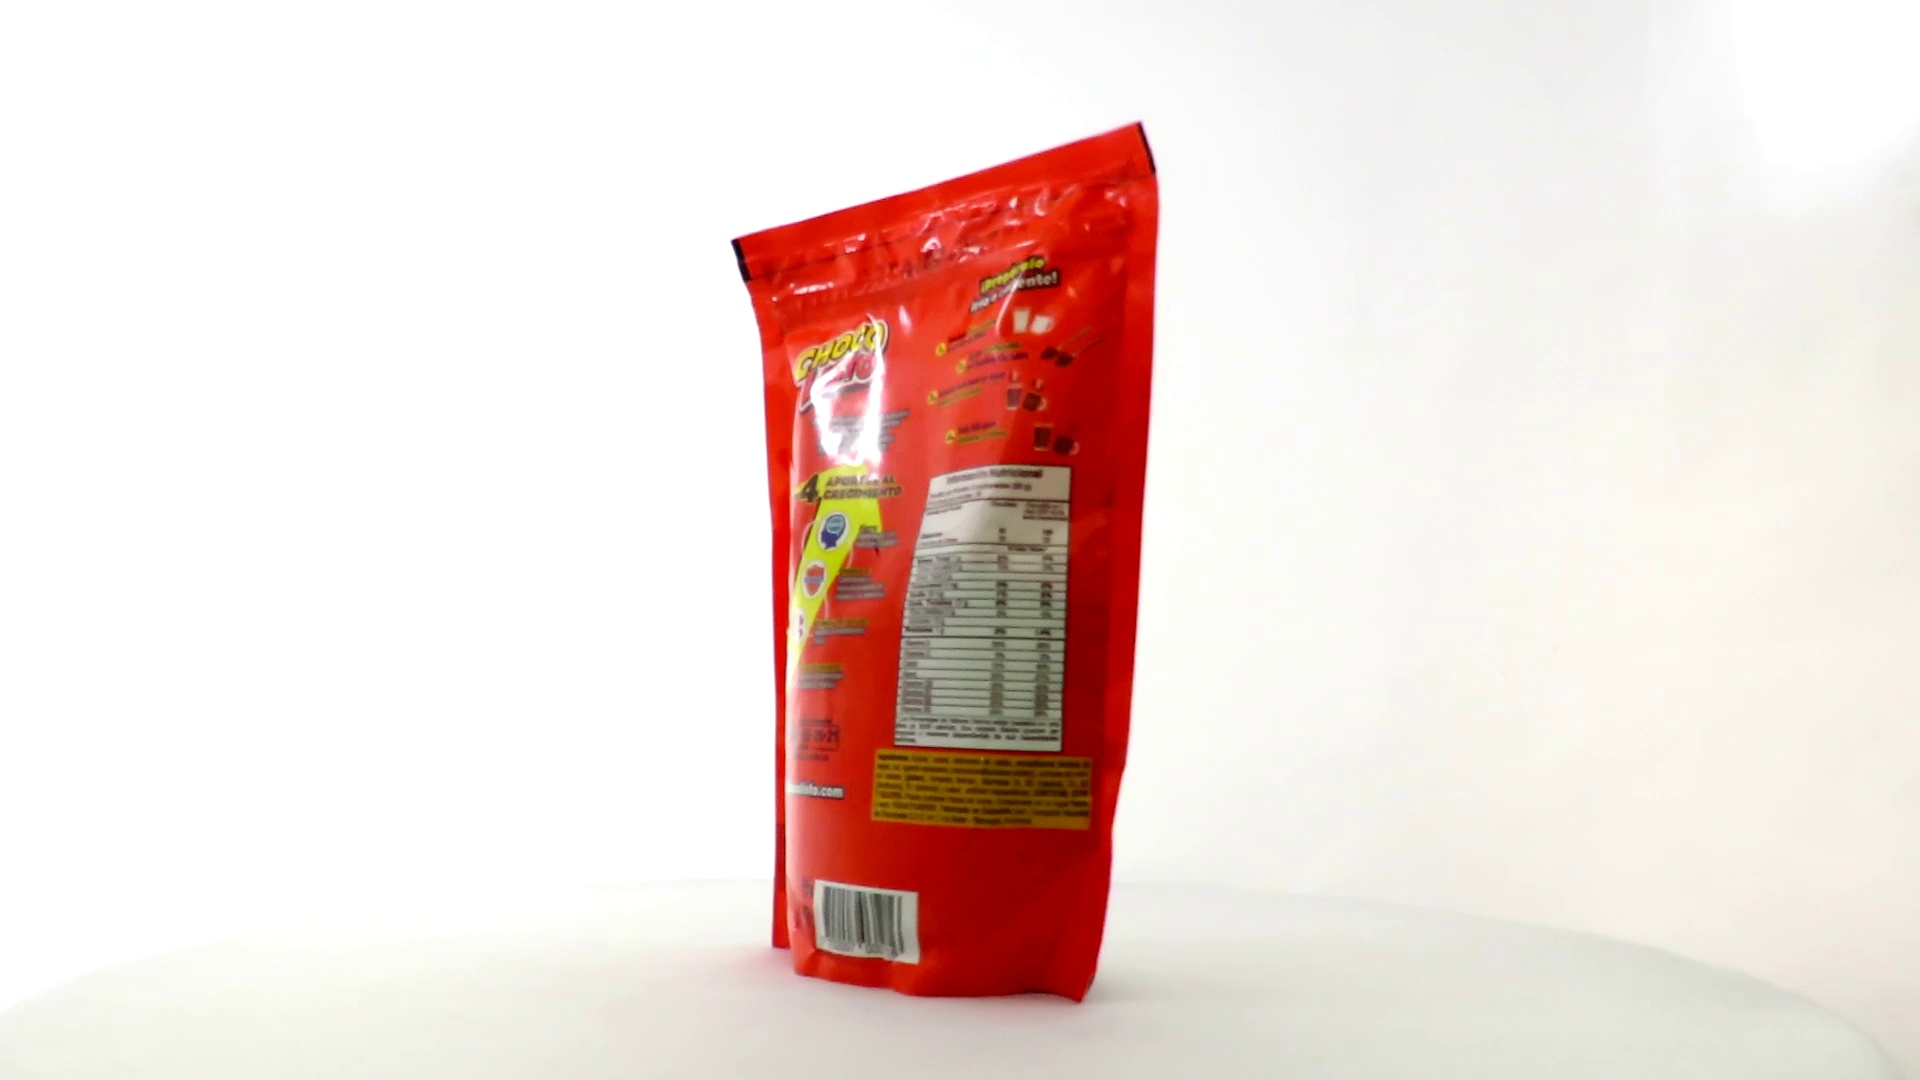COL0170103DYP36000: (727, 116, 1164, 1011)
